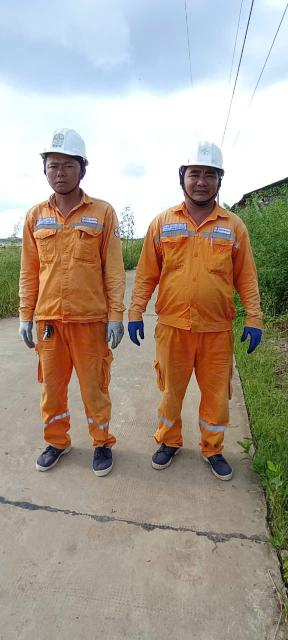gloves: (123, 307, 147, 350), (19, 313, 42, 356), (235, 326, 266, 353), (110, 317, 123, 351)
helmet: (169, 128, 230, 175), (35, 120, 90, 167)
shoes: (143, 435, 181, 479), (206, 441, 238, 487), (29, 442, 77, 471), (88, 446, 114, 479)
